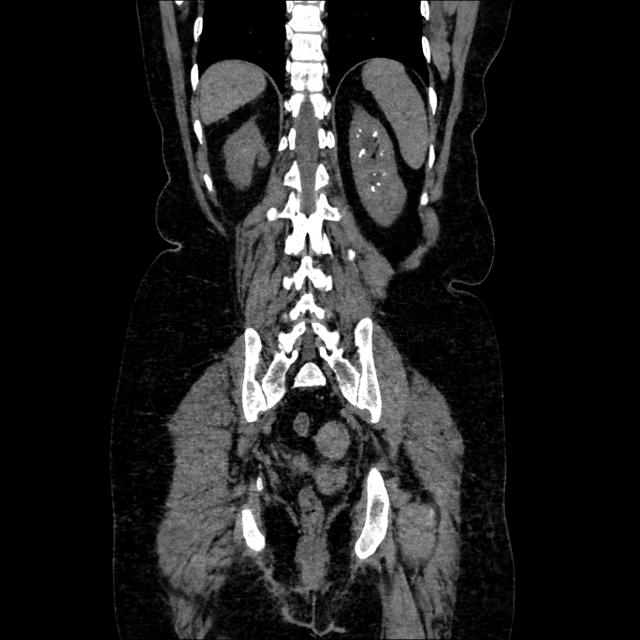kidney: (354, 117, 402, 213), (232, 130, 259, 186)
stone: (360, 150, 364, 156), (373, 132, 377, 136), (372, 187, 374, 191), (357, 134, 359, 138), (378, 183, 380, 186), (383, 174, 385, 176), (374, 174, 375, 176), (381, 154, 382, 156)
